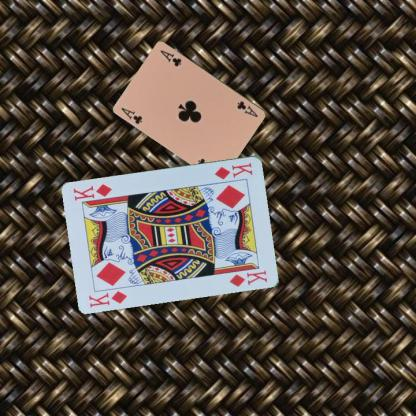Ac: (118, 104, 144, 126), (235, 99, 260, 119)
Kd: (212, 160, 254, 180), (86, 288, 128, 308)
